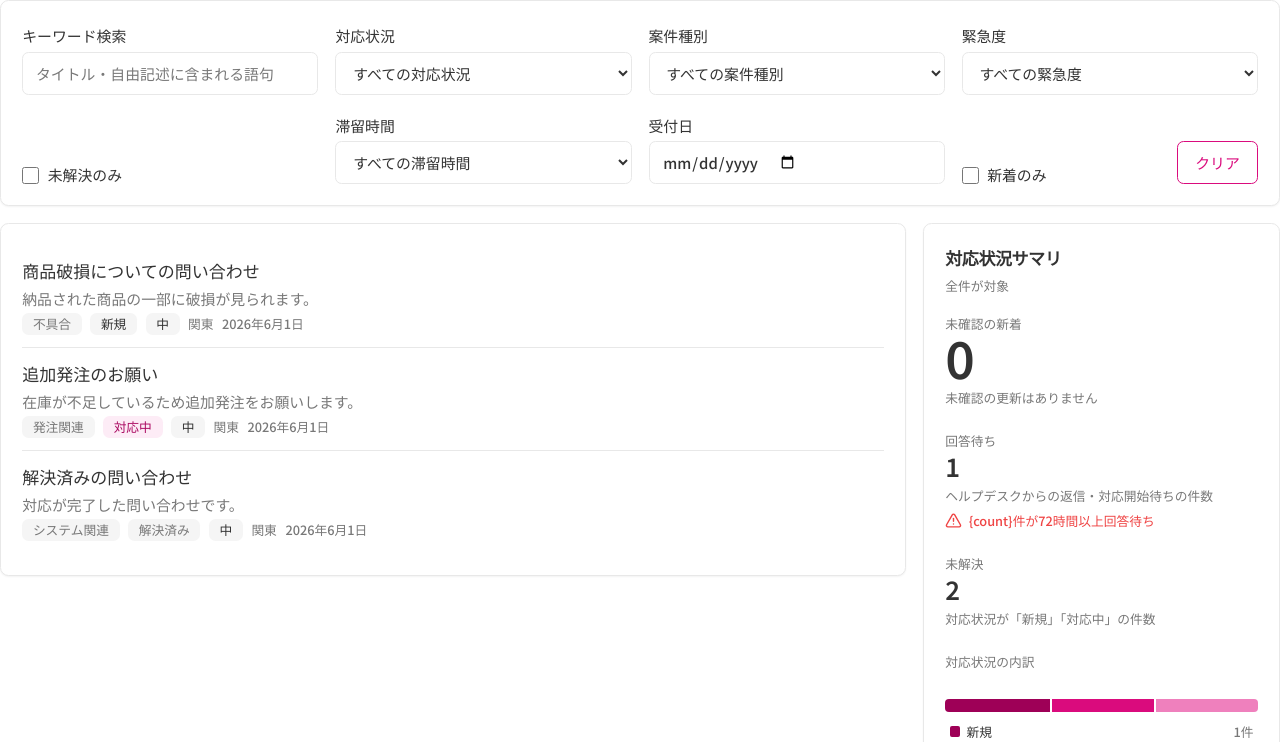
Test: InquiryListClient › 条件に一致する問い合わせが無いとき0件メッセージを表示する
In the field labelled "キーワード検索": (170, 73) [22,52,318,94], type "存在しない語句"
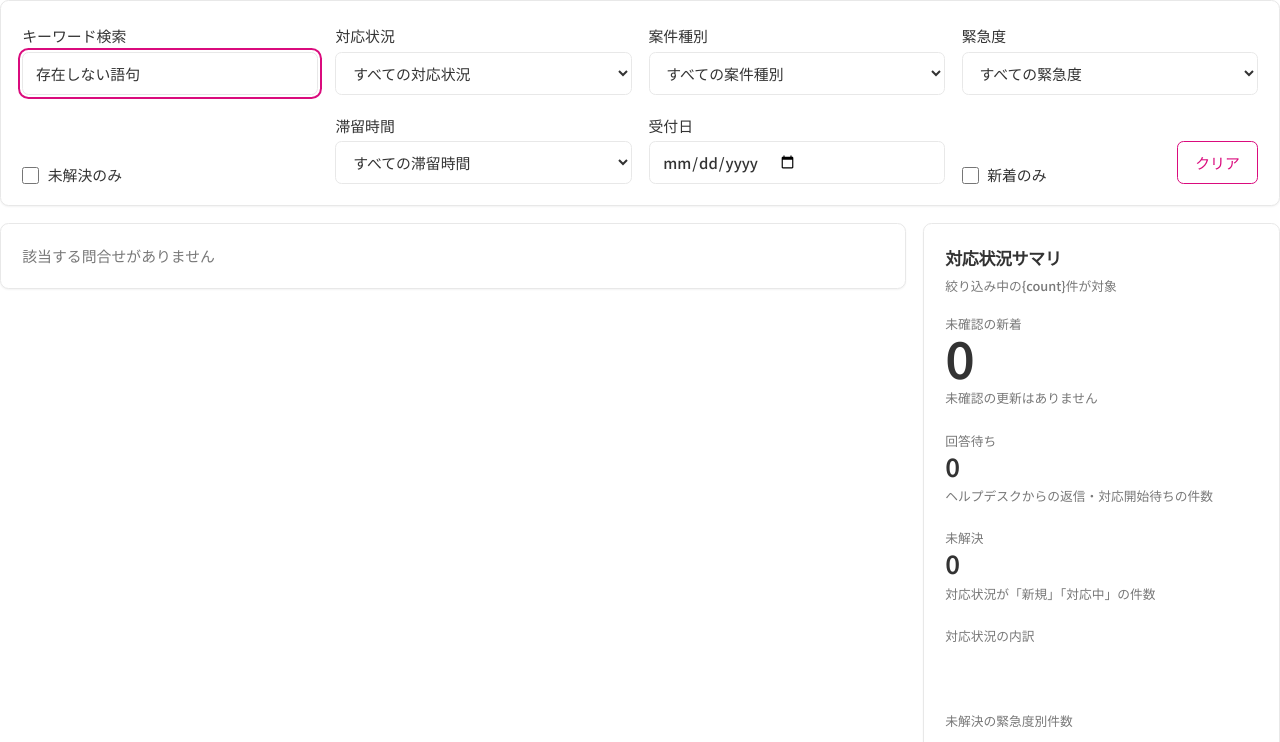
Check: the text "該当する問合せがありません" is shown, box [22,245,215,266]
